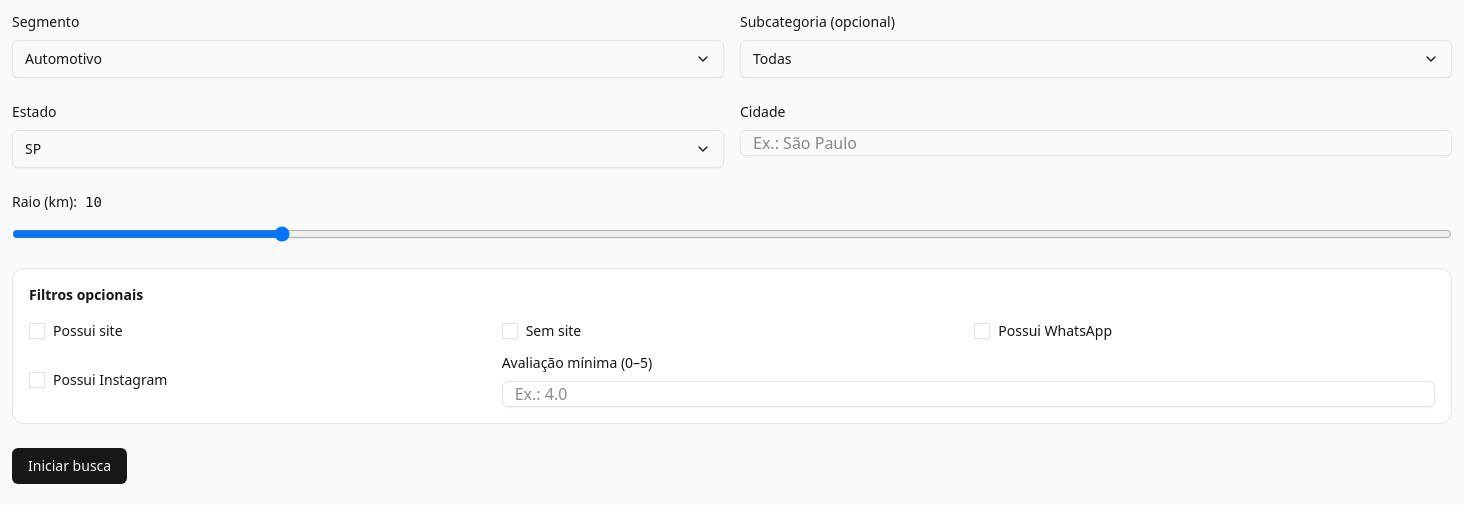
Test: SearchForm › prevents submit with empty cidade field
Click the button "Iniciar busca". click: (70, 466)
box: [12, 448, 127, 484]
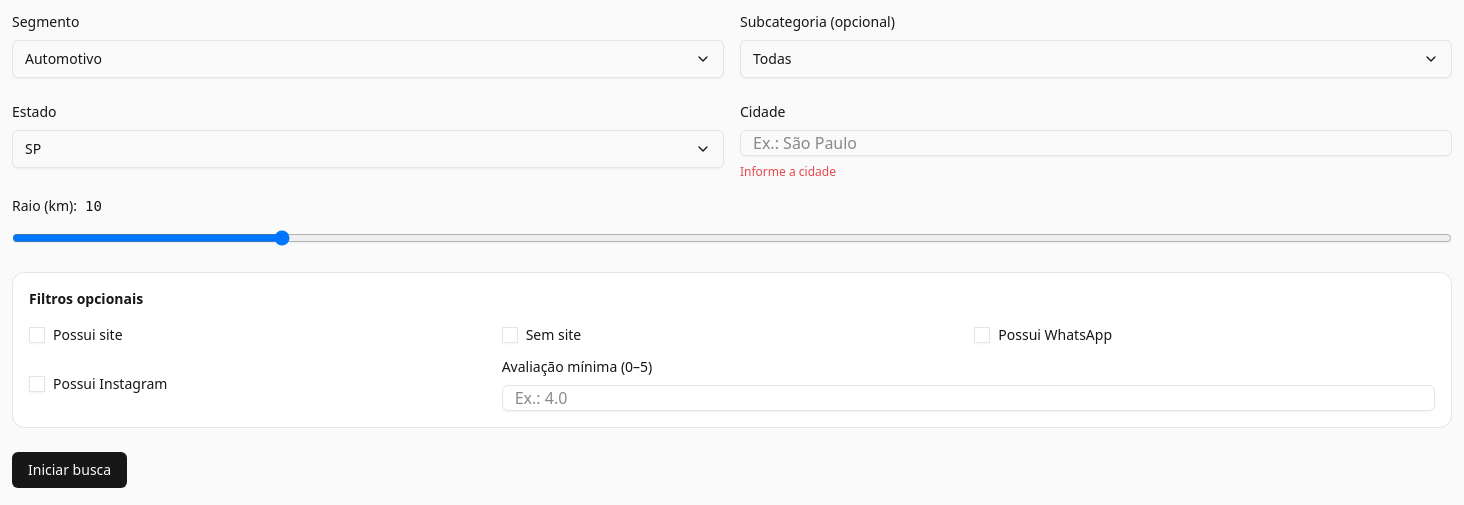
Expected: the text "Informe a cidade" is shown, [740, 163, 836, 180]
